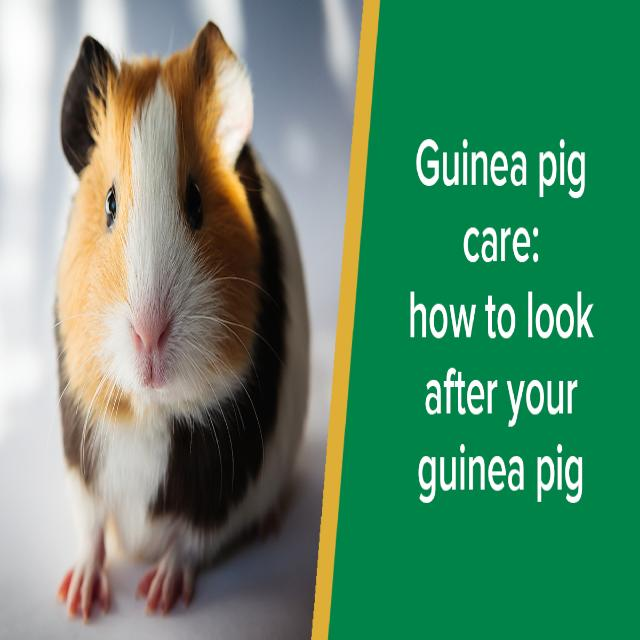guinea pig: (54, 21, 310, 624)
